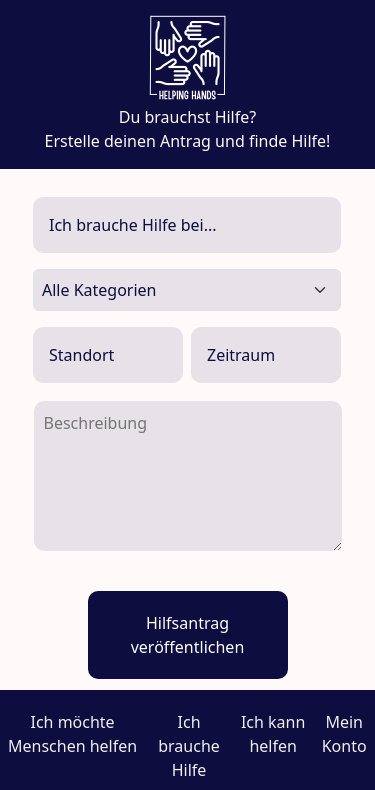
testing AnzeigeErstellen component › closes the popup when the close button is clicked
// Fülle das Formular mit gültigen Daten aus
Type "Hilfe benötigt" into the field with class "title-input" at {"x": 187, "y": 225}, box [33, 197, 341, 253]
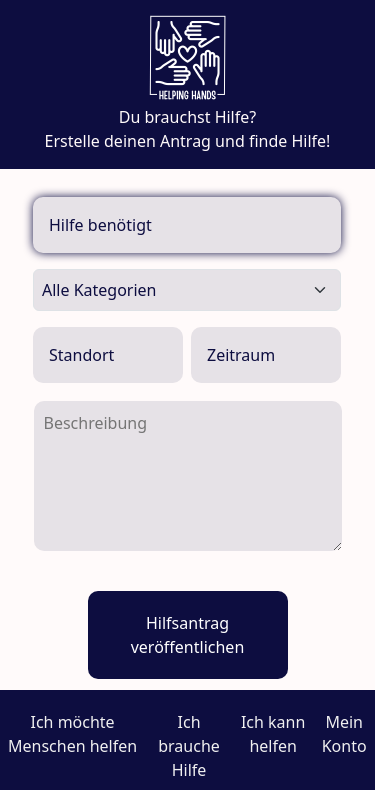
Type "Sommerferien" into the field with class "time-input" at {"x": 266, "y": 355}, box [191, 327, 341, 383]
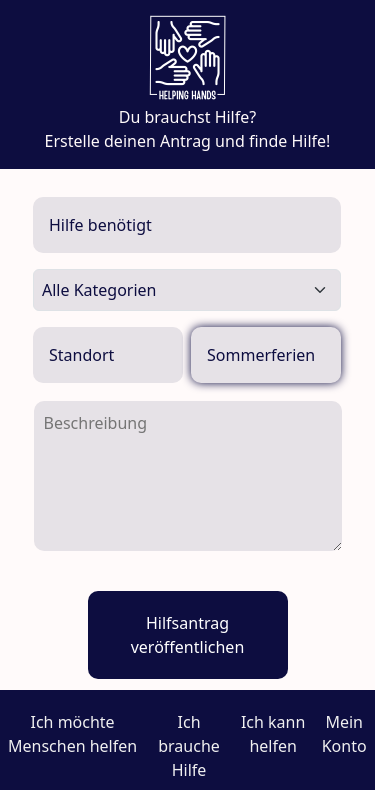
Type "Ich brauche Hilfe in meinem Garten." into the text box with class "description-input" at {"x": 188, "y": 476}, box [34, 401, 342, 551]
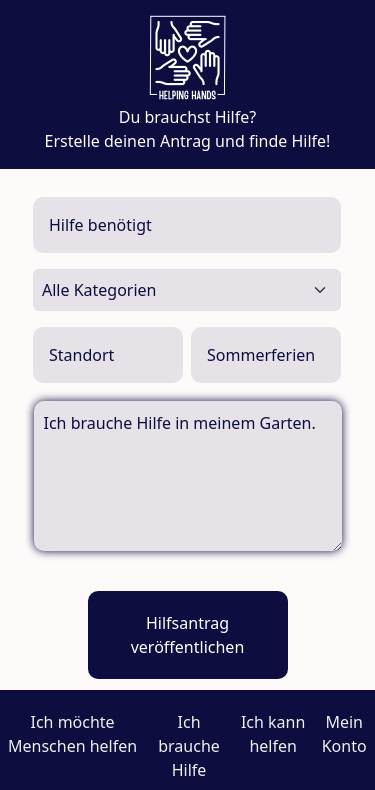
// Klicke auf den Submit-Button
Click the button "Hilfsantrag veröffentlichen" at {"x": 188, "y": 635}, box [88, 591, 288, 679]
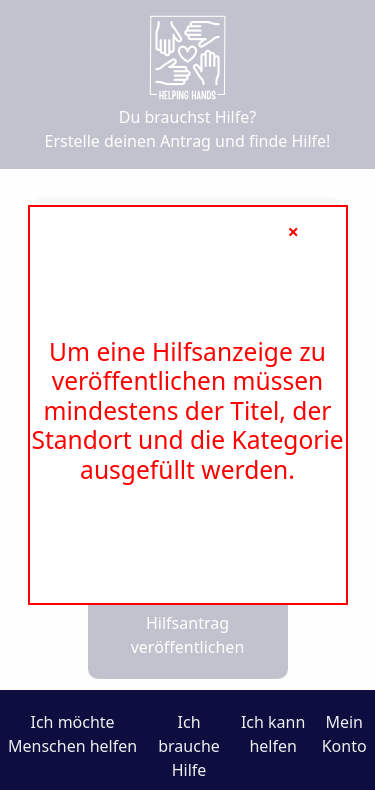
Expected: the dialog is shown, [28, 205, 348, 605]
// Klicke auf das Schließen-Symbol (Kreuz)
Click the button with class "close-button" at {"x": 288, "y": 232}, box [268, 197, 308, 267]
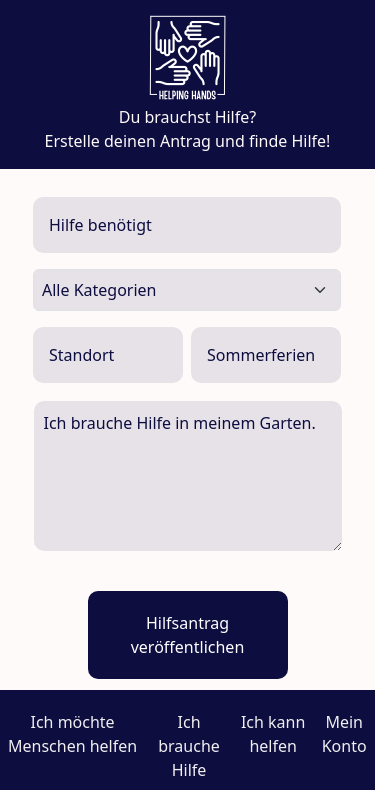
Expected: the dialog is gone
